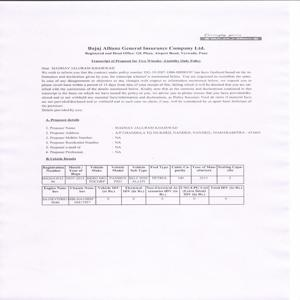table: (41, 184, 244, 206), (40, 164, 245, 183)
text: (38, 65, 254, 112), (41, 116, 260, 161), (84, 43, 208, 64)
